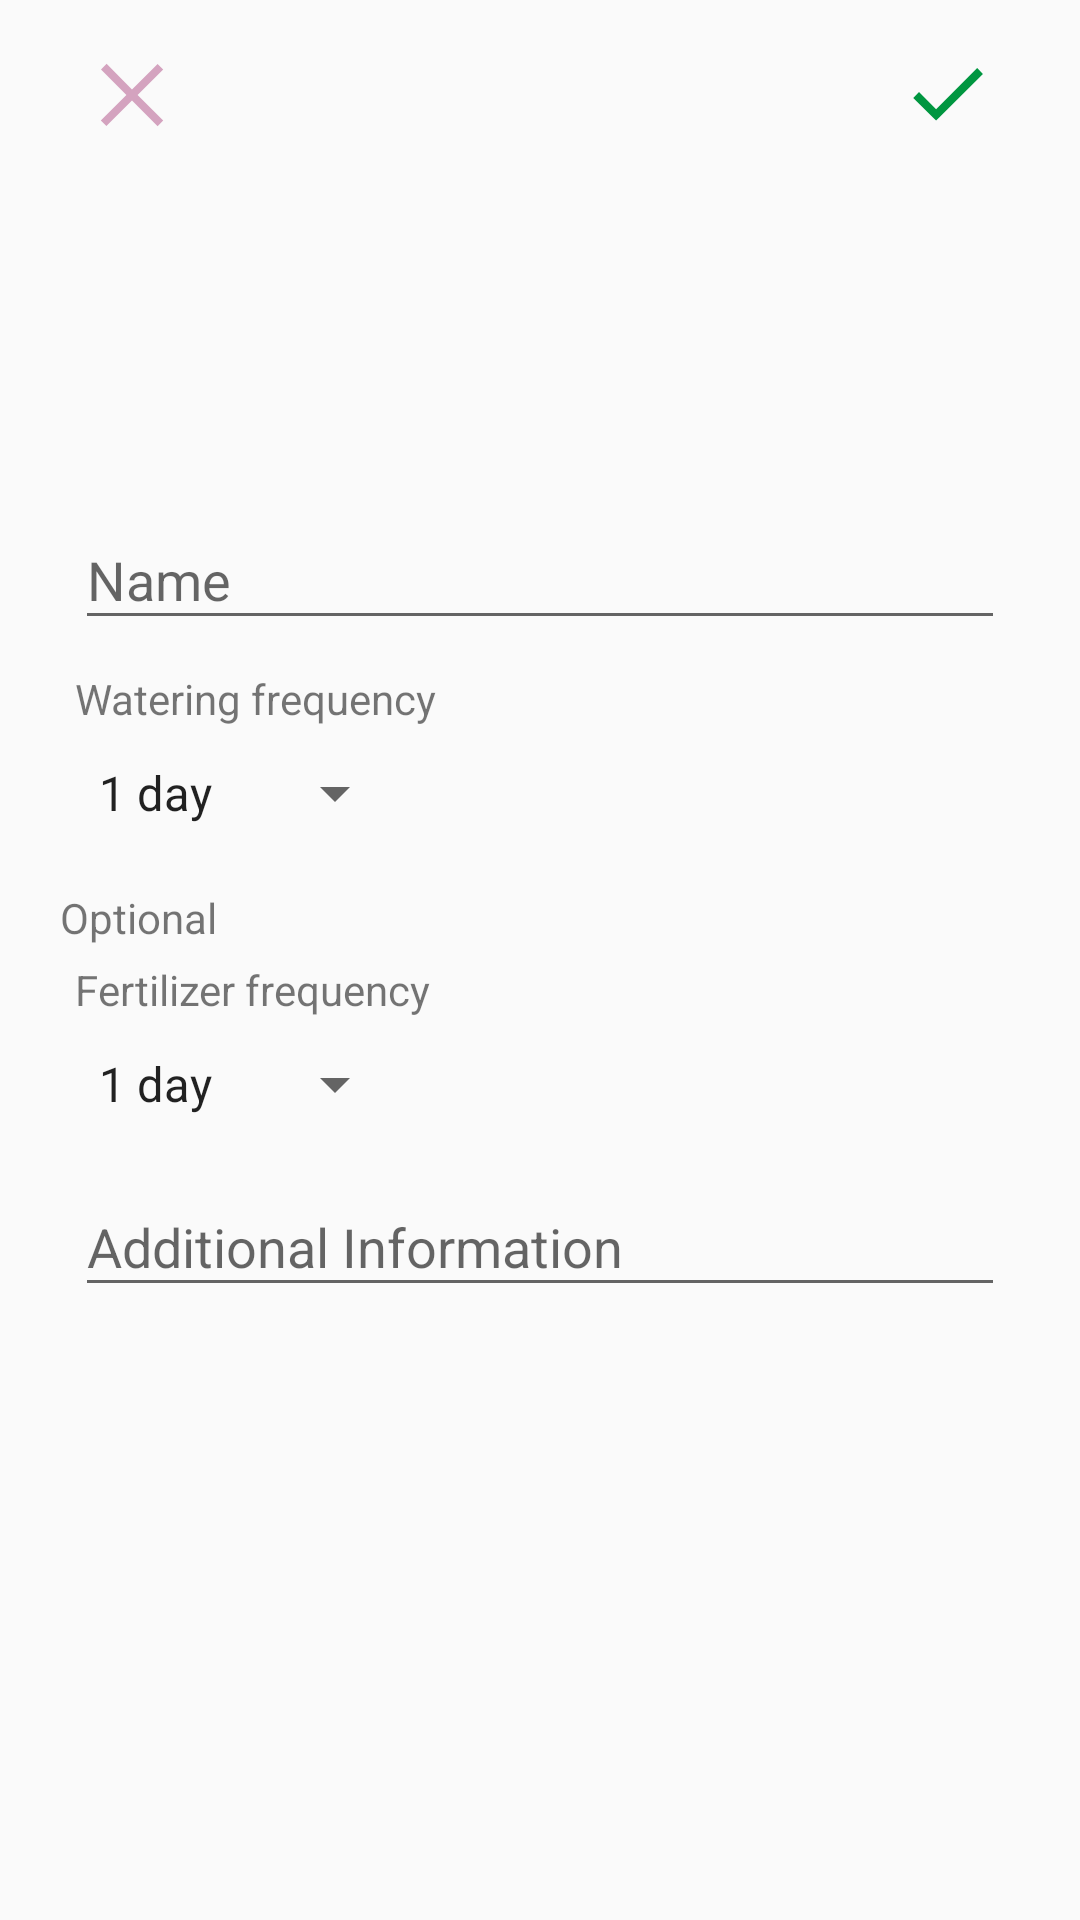

Icons on this 1080 × 1920 Android screen, each with its box as (x1, y1, x2, y2):
cancel: (101, 64, 163, 126)
checkmark: (913, 68, 983, 121)
